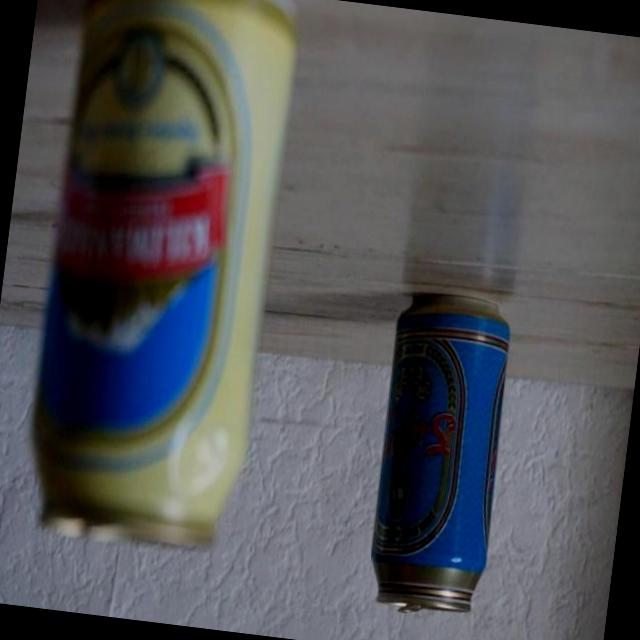can: (13, 0, 307, 563), (357, 284, 519, 624)
